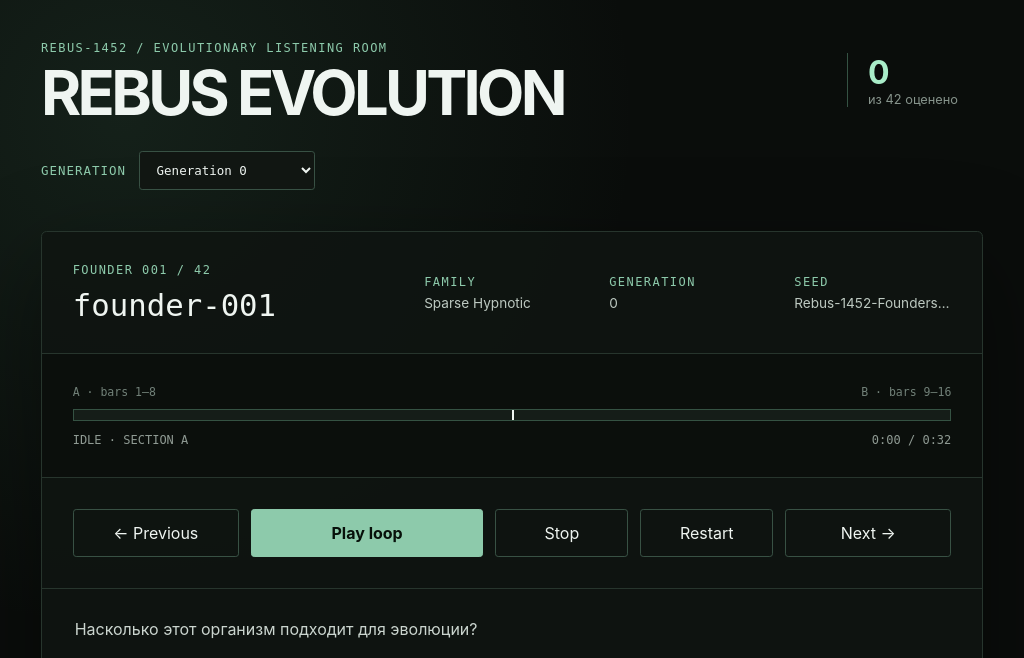
App › wraps navigation inside the active generation
This screenshot has width=1024, height=658.
Select "Generation 1" in the dropdown labelled "Generation" at (227, 170), box [139, 150, 315, 190]
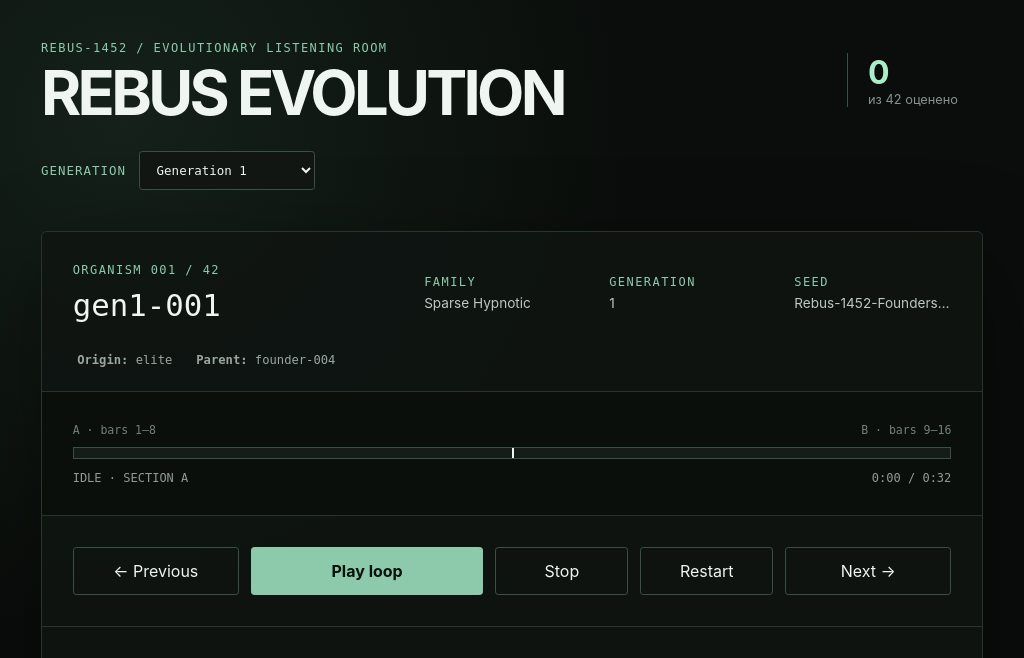
Click the button "← Previous" at (156, 571), box [73, 547, 239, 595]
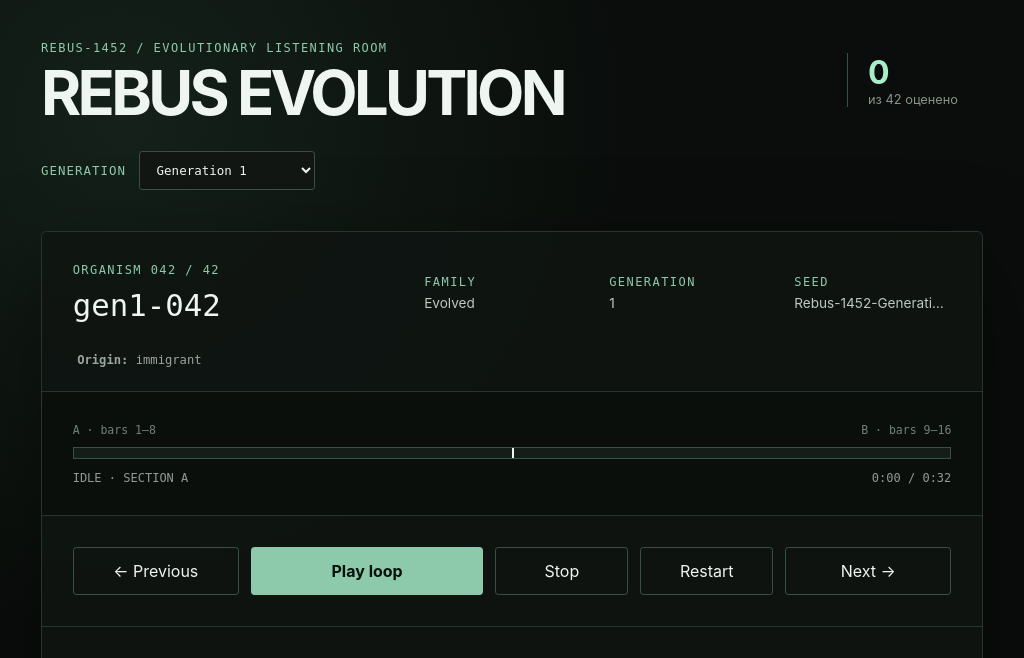
Expected: the message shows "idle", [73, 471, 102, 485]
Now the text "Organism 042 / 42" is shown, box [73, 263, 221, 277]
Click the button "Next →" at (868, 571), box [785, 547, 951, 595]
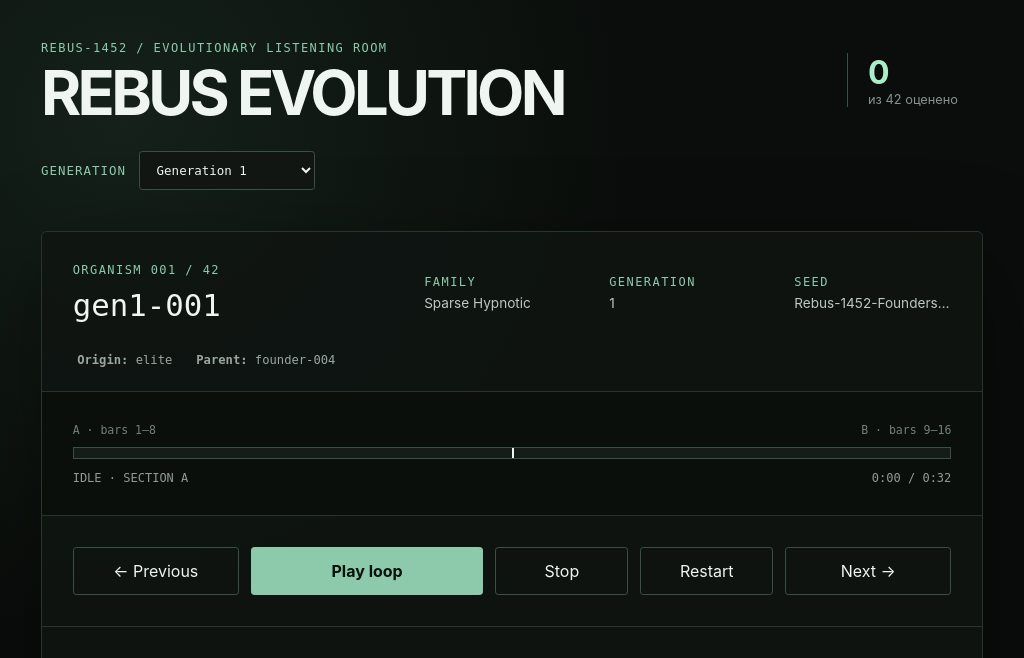
Expected: the message shows "idle", [73, 471, 102, 485]
Now the text "Organism 001 / 42" is shown, box [73, 263, 221, 277]
